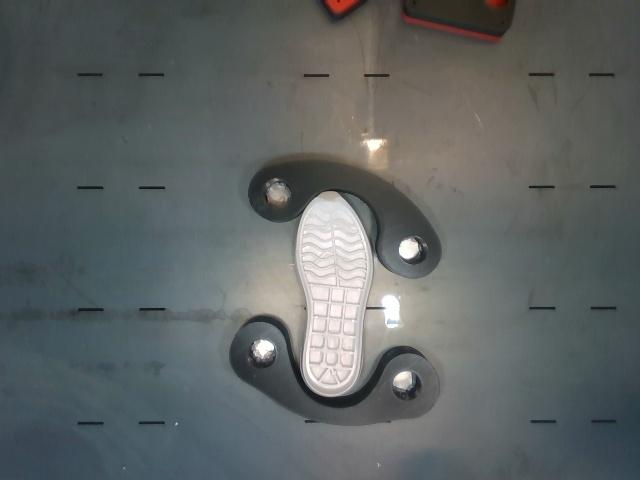shoes: (297, 190, 372, 395)
